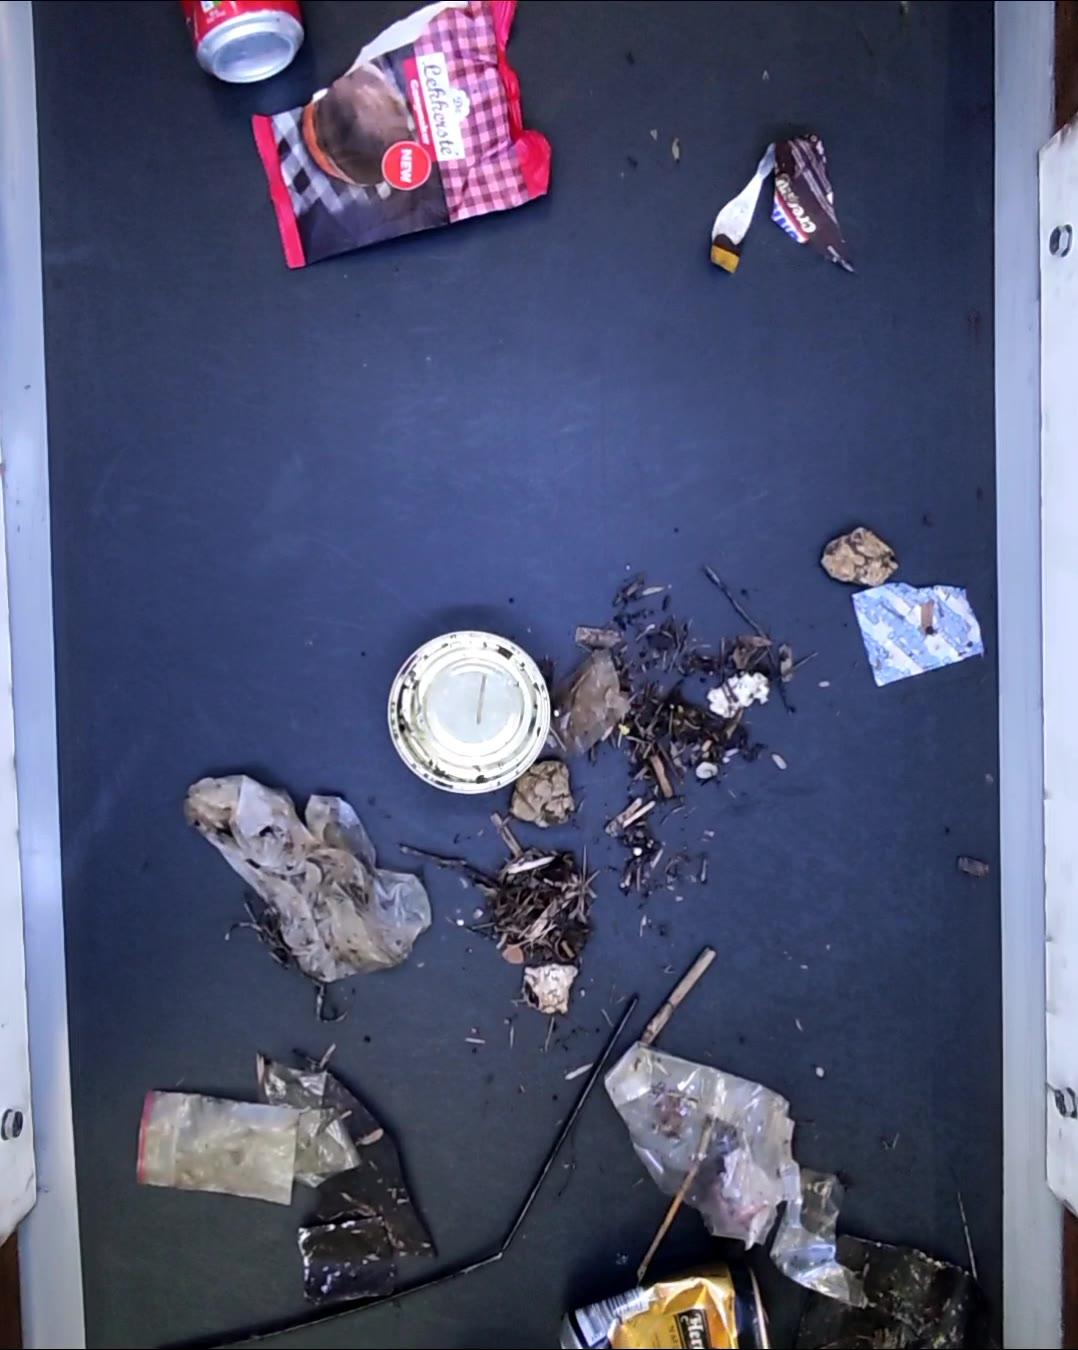Drankblikjes: (558, 1270, 770, 1350), (186, 0, 299, 87)
Plastic folies of stukken daarvan 2.5- 50 cm: (612, 1049, 866, 1304), (191, 772, 429, 984), (256, 1060, 359, 1193), (551, 650, 630, 757)
Snoep snack en chips verpakkingen: (256, 0, 562, 270), (706, 133, 857, 281)
Voedselverpakkingen: (857, 585, 985, 694)
